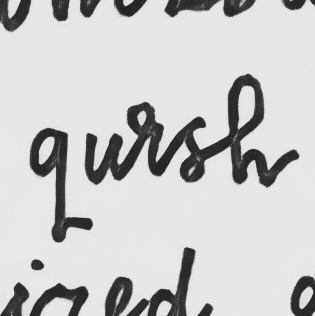h: (225, 72, 272, 189)
q: (26, 126, 78, 244)
r: (125, 100, 168, 179)
s: (176, 114, 209, 184)
u: (81, 130, 125, 186)
